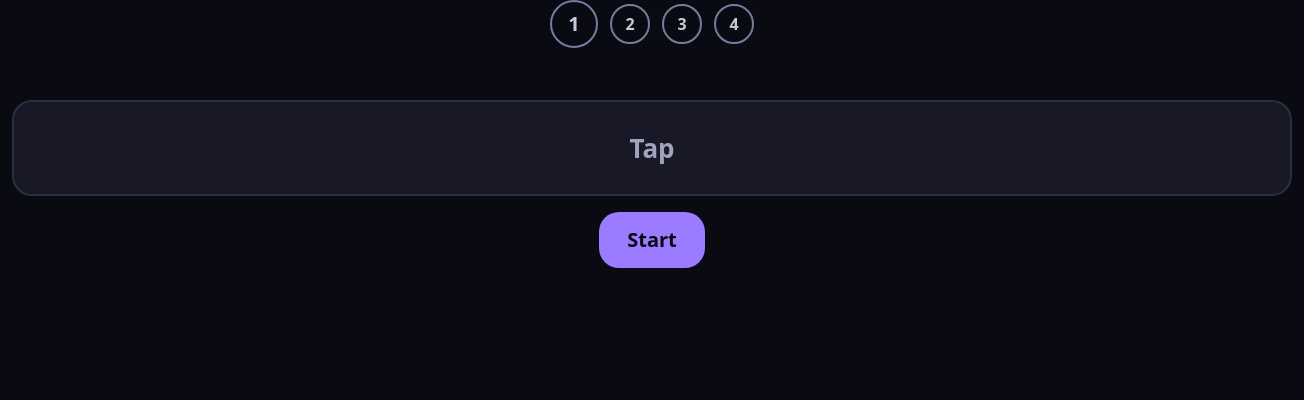
chrome › full (the default) is unchanged: Start, Try again and the result are the pad's own
The width and height of the screenshot is (1304, 400).
Click the button "Start": (652, 240) [599, 212, 705, 268]
Wait 4650 ms
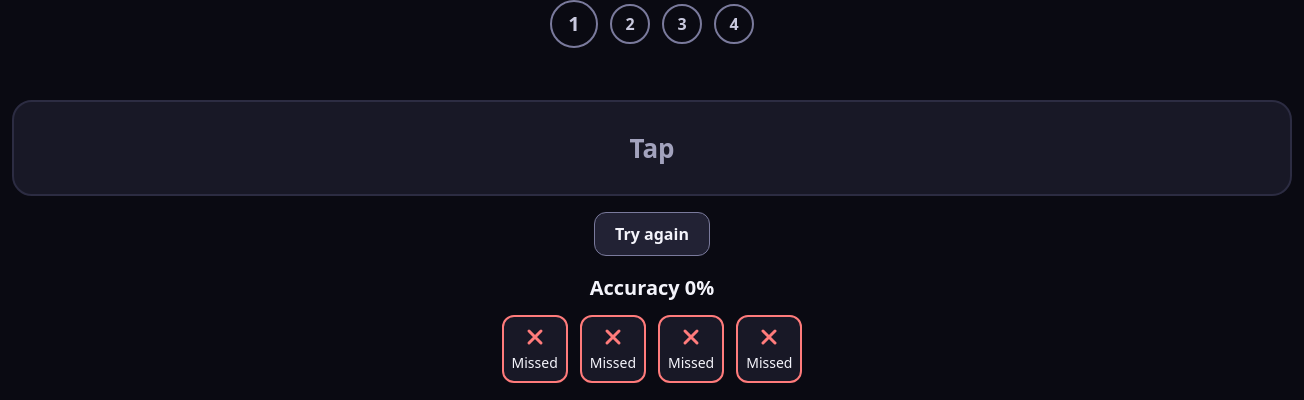
Expected: the element with test id "result" is shown, [502, 274, 802, 383]
Expected: the button "Try again" is shown, [594, 212, 710, 256]
